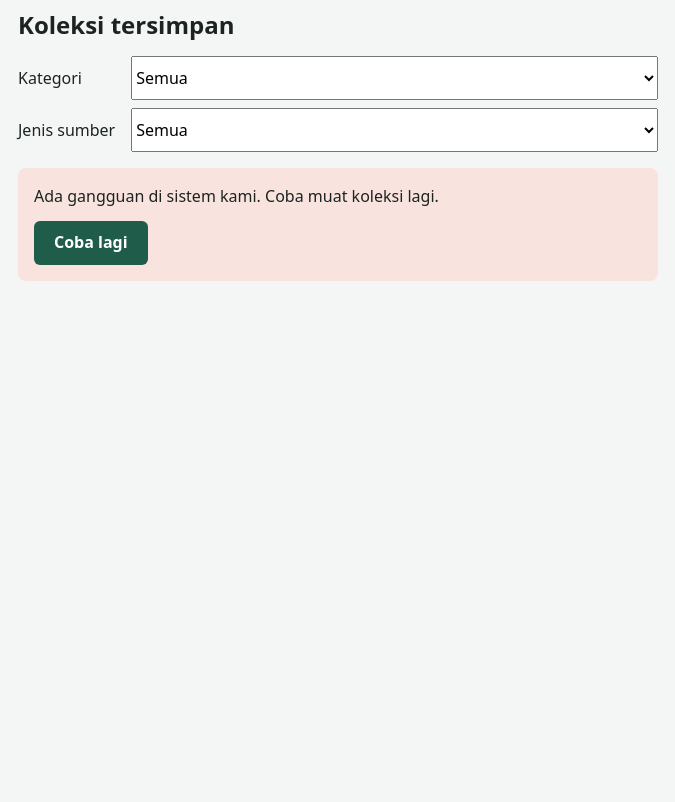
Scenario: KL-E luring, KL-D gangguan dengan Coba lagi, 401 ke cangkang
Later steps or results of the test are not shown.
expect the text "Ada gangguan di sistem kami. Coba muat koleksi lagi." is shown: met, box [34,185,439,207]
Click the button "Coba lagi".
click(91, 243)  # box [34,221,148,265]
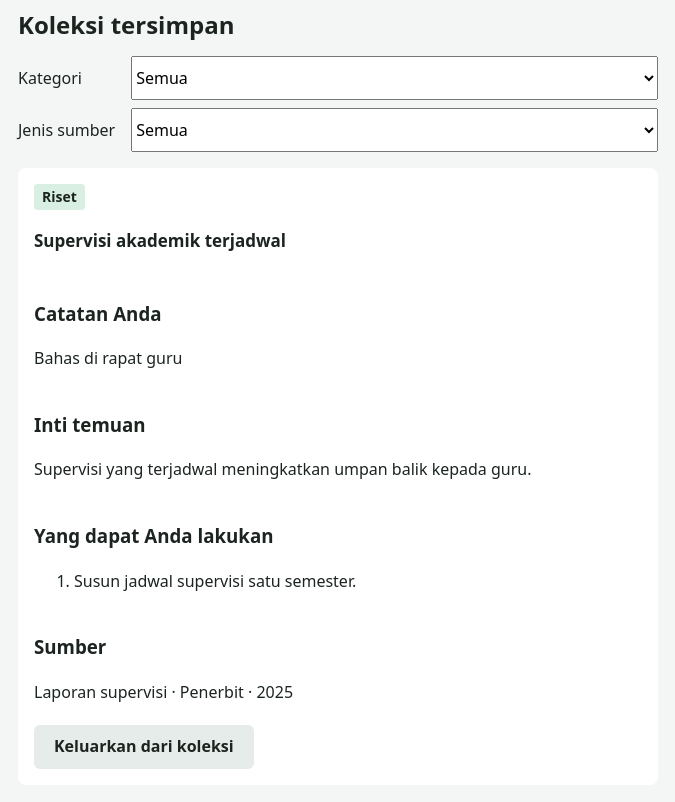
expect the heading "Supervisi akademik terjadwal" is shown: met, box [34,229,286,252]
